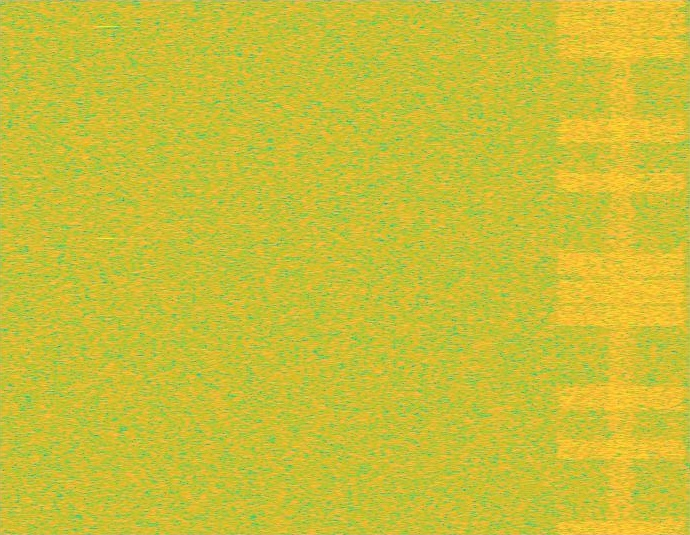DSSS: (605, 0, 637, 534)
LTE: (552, 0, 689, 534)
Radar: (100, 0, 114, 534)
